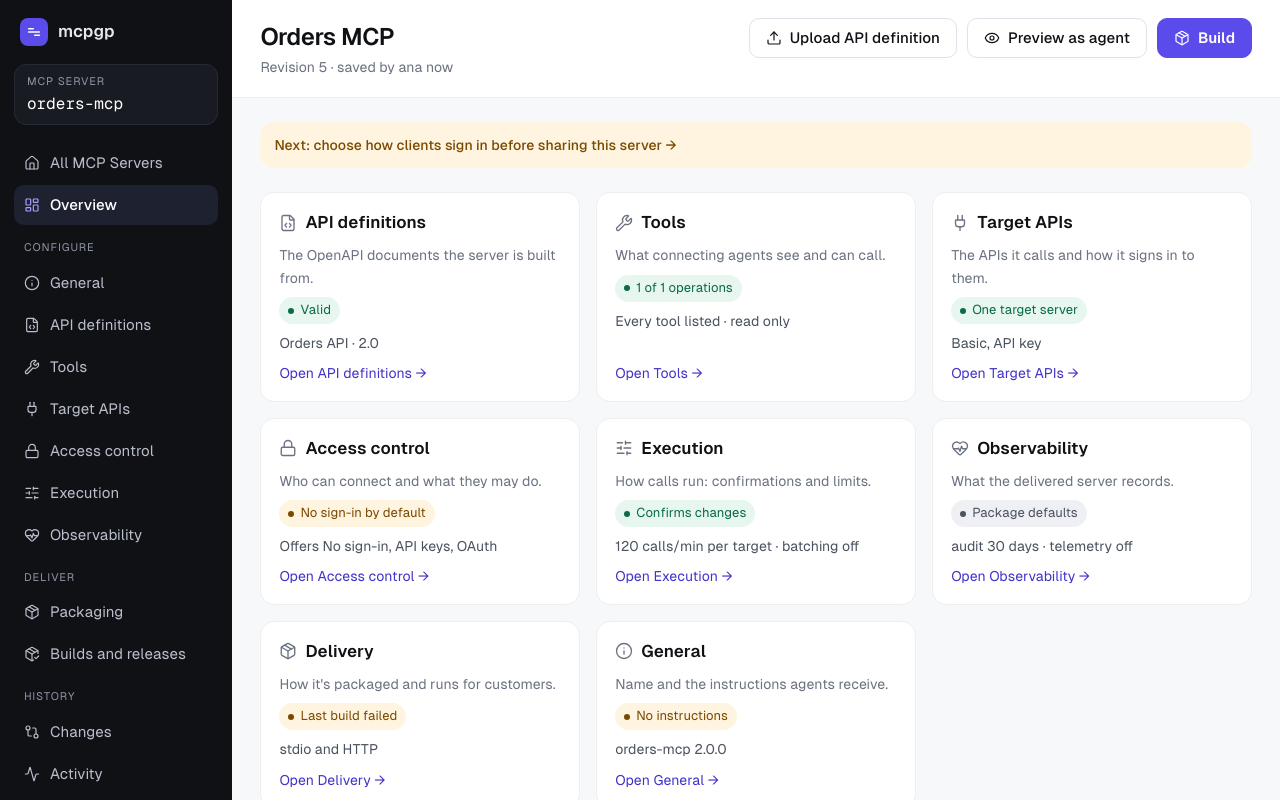
overview › shows the agent preview on request
The image size is (1280, 800).
Click the button "Preview as agent" at coordinates (1057, 38), box [967,18,1147,58]
(page scrolled)
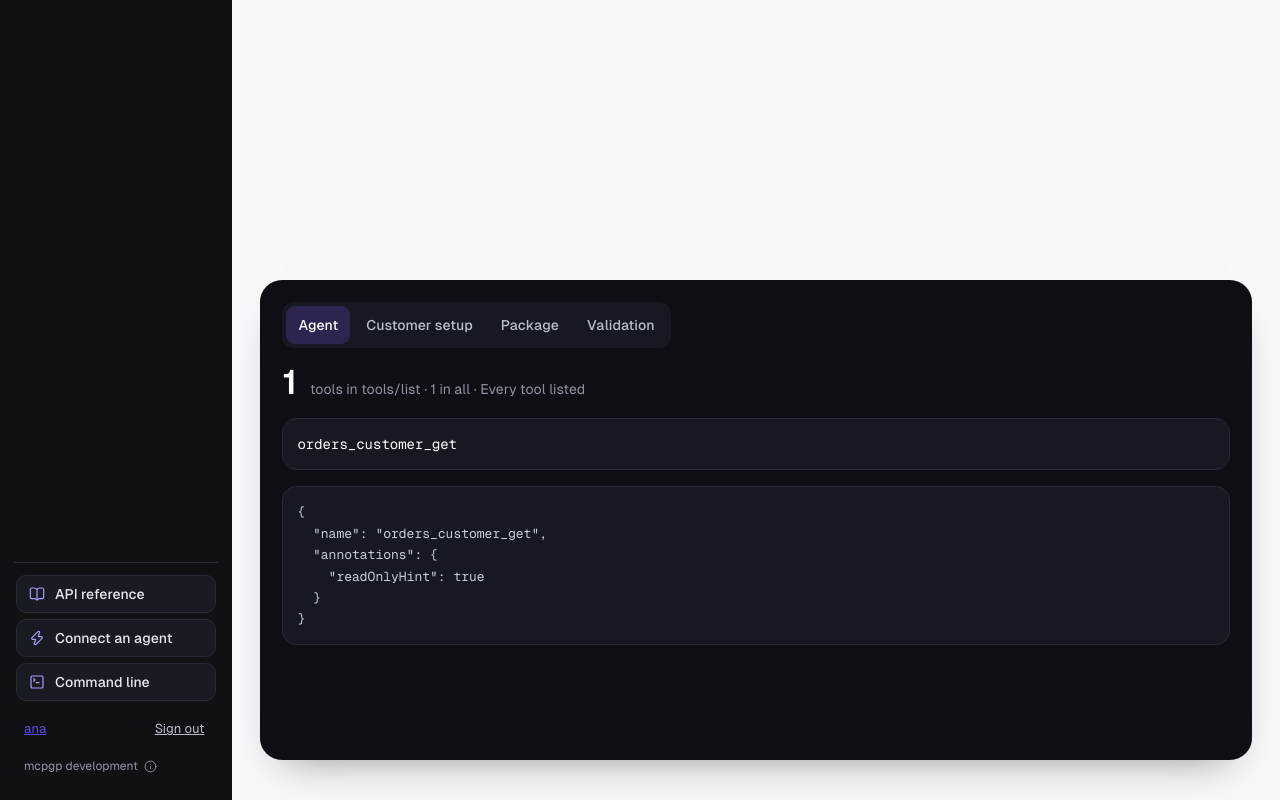
Expected: the element named "Preview" is shown, [260,280,1252,760]
